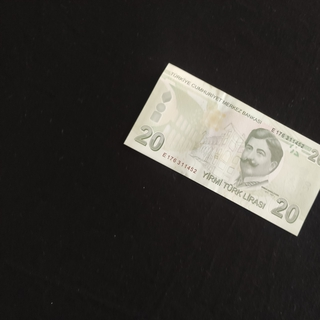20TLBack: (123, 62, 320, 237)
